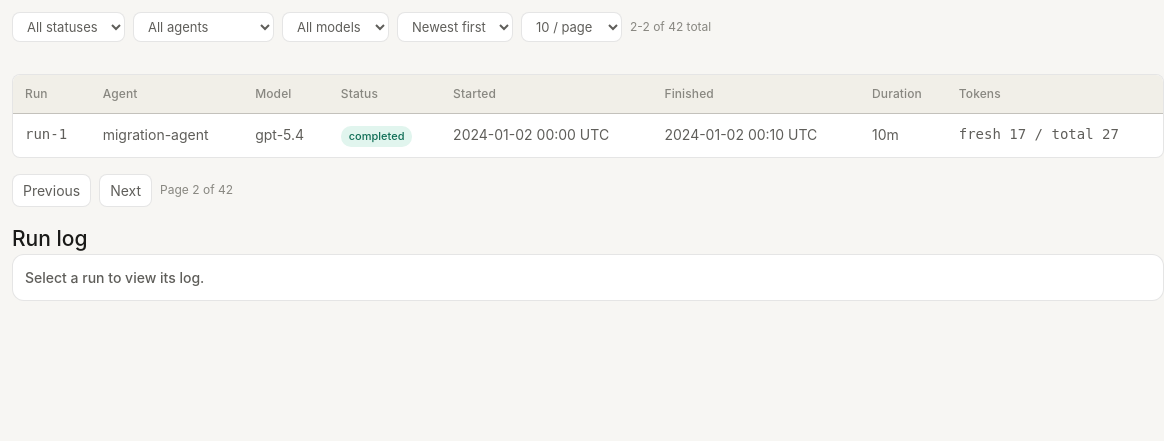
operational tab views › forwards run filter changes and shows server pagination counts
Select "review-agent" in the dropdown named "run agent filter": (204,27) [133, 12, 274, 42]
Select "failed" in the dropdown named "run status filter": (68,27) [12, 12, 125, 42]
Check: the text "2-2 of 42 total" is shown, box [630, 18, 711, 36]
Click the text "run-1": (52,135) [13, 114, 91, 156]
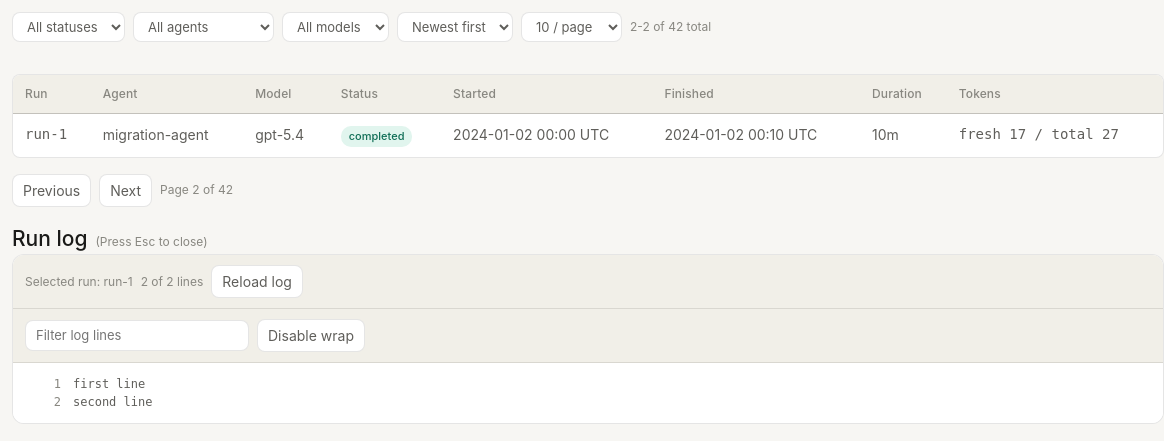
Check: the text "Selected run: run-1" is shown, box [25, 272, 133, 290]
Check: the text "2 of 2 lines" is shown, box [141, 272, 203, 290]
Check: the text "first line" is shown, box [73, 375, 145, 393]
In the search field named "run log filter": (137,336) [25, 320, 249, 351], type "second"
Wait 300 ms
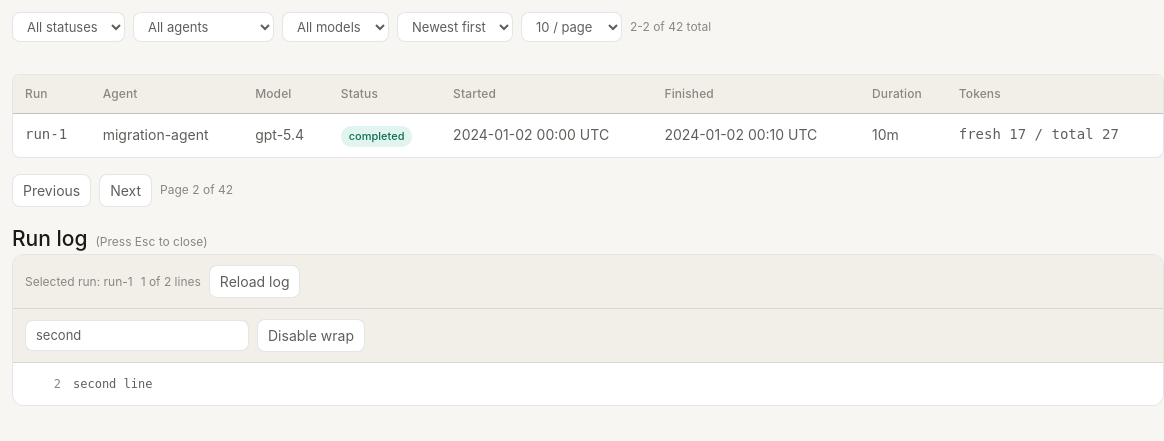
Check: the text "second line" is shown, box [73, 375, 152, 393]
Check: the text "1 of 2 lines" is shown, box [141, 272, 201, 290]
Check: the text "first line" is gone
